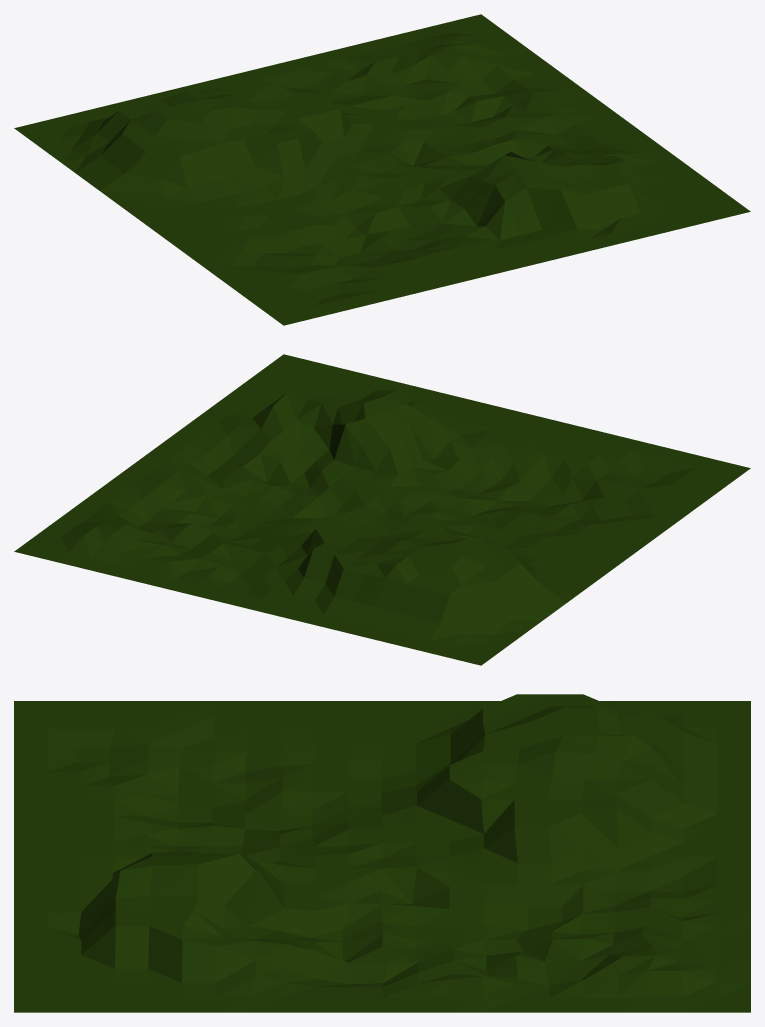
File: Forest.fbx
3 views of the same model, one above another, from view 1: azimuth 30°, elevation 25°; view 2: azimuth 150°, elevation 25°; view 3: azimuth 270°, elevation 25° (orthographic). The views are drawn at different scales.
Visible parts, largest first — view 1: Plane; view 2: Plane; view 3: Plane.
Boxes of the visible parts, x1,y1,x2,y2 form: Plane: (14,14,750,325); Plane: (14,354,750,665); Plane: (14,694,750,1012).
Bounding box in the file's own units: 20000 × 2200 × 20000.
